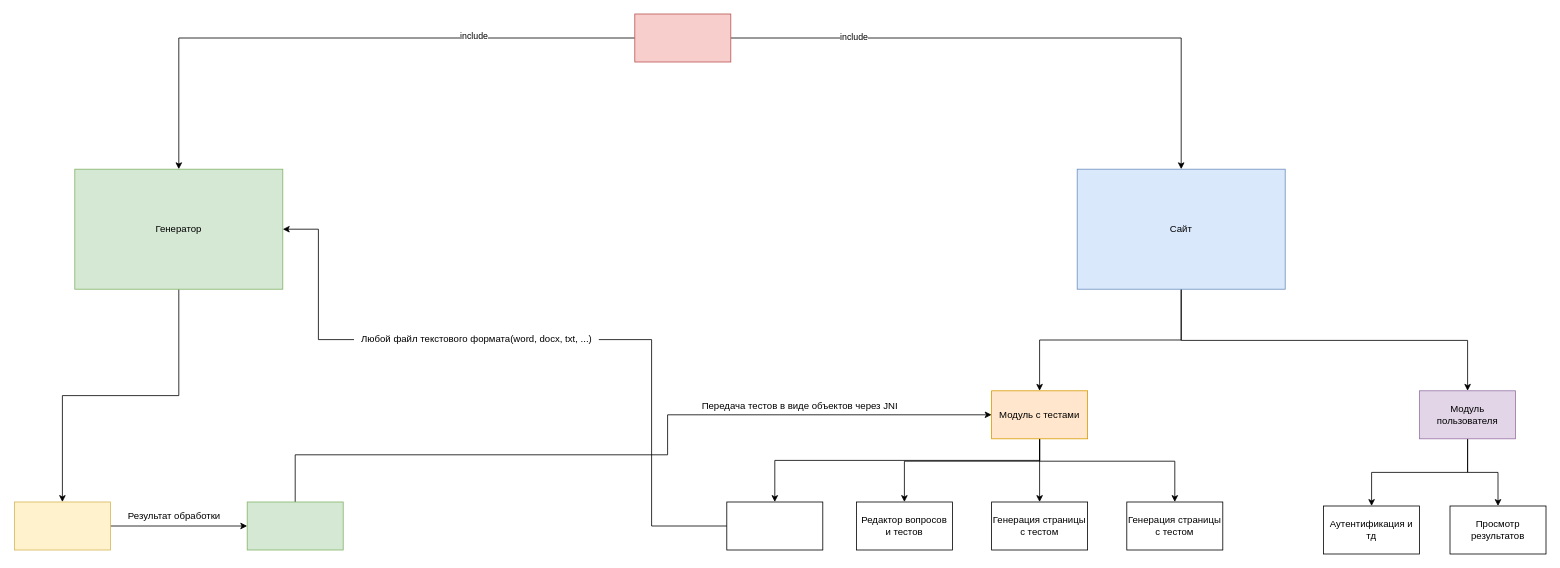
Some shapes in this 1560 by 568 pixel diagram are drawn without their labels. Each missing label, with the centre of its shape:
"Генератор тестов" goes at (x=682, y=37).
"Генерация тестов" goes at (x=294, y=525).
"Загрузка файлов с текстом" goes at (x=774, y=525).
"Обработка текста" goes at (x=62, y=525).
